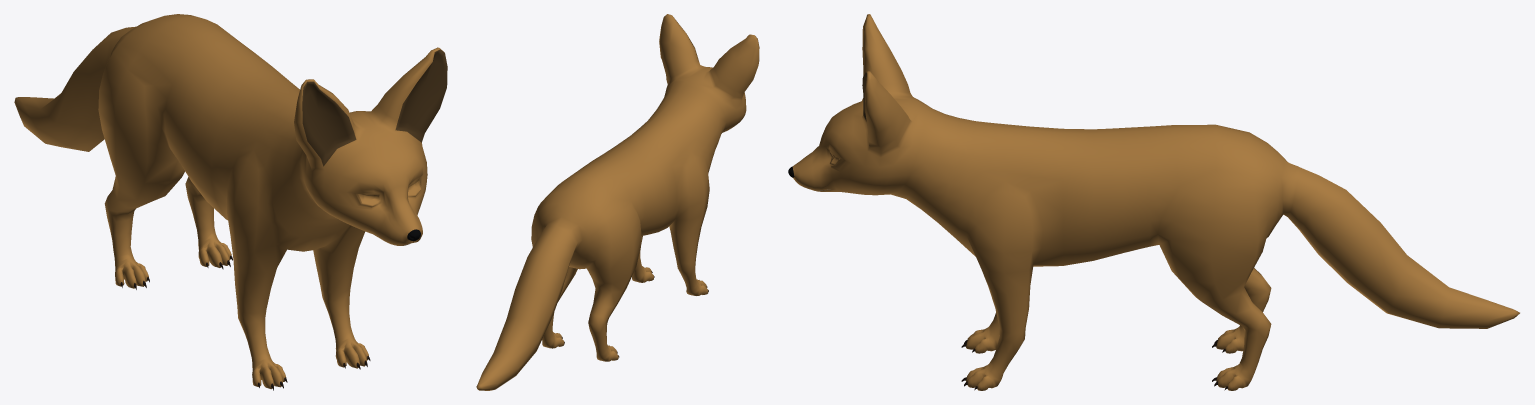
Rendered from fennec_fox_fennec_fox.obj.
3 renders of one model, left to right at view 1: azimuth 30°, elevation 25°; view 2: azimuth 150°, elevation 25°; view 3: azimuth 270°, elevation 25°, orthographic. The views are drawn at different scales.
Visible parts, largest first — view 1: fennec_fox; view 2: fennec_fox; view 3: fennec_fox.
Part boxes in pixels (box(x1,y1,x2,y2)): fennec_fox: box(14, 14, 447, 390); fennec_fox: box(476, 14, 759, 390); fennec_fox: box(788, 14, 1519, 390).
Size of the model in its own units: 0.1338 by 0.2981 by 0.611.
